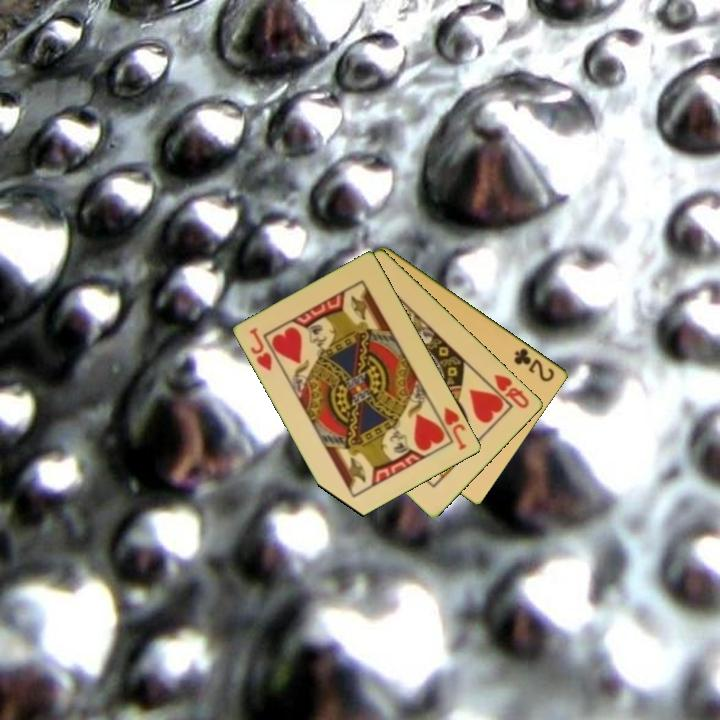2c: (510, 344, 558, 385)
Jh: (246, 324, 276, 374), (441, 403, 470, 453)
Qh: (491, 371, 532, 411)
